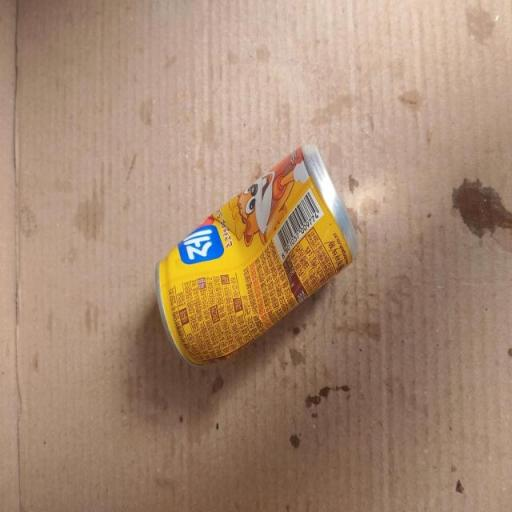metal: (142, 128, 380, 402)
